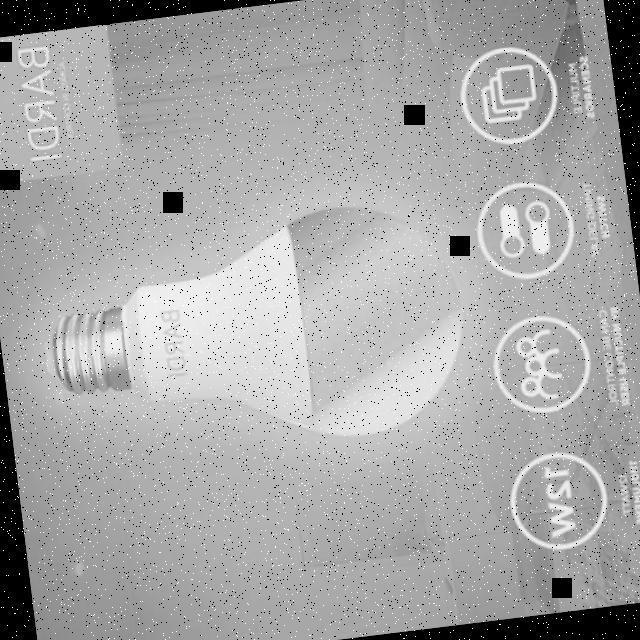light_bulb: (24, 188, 487, 482)
